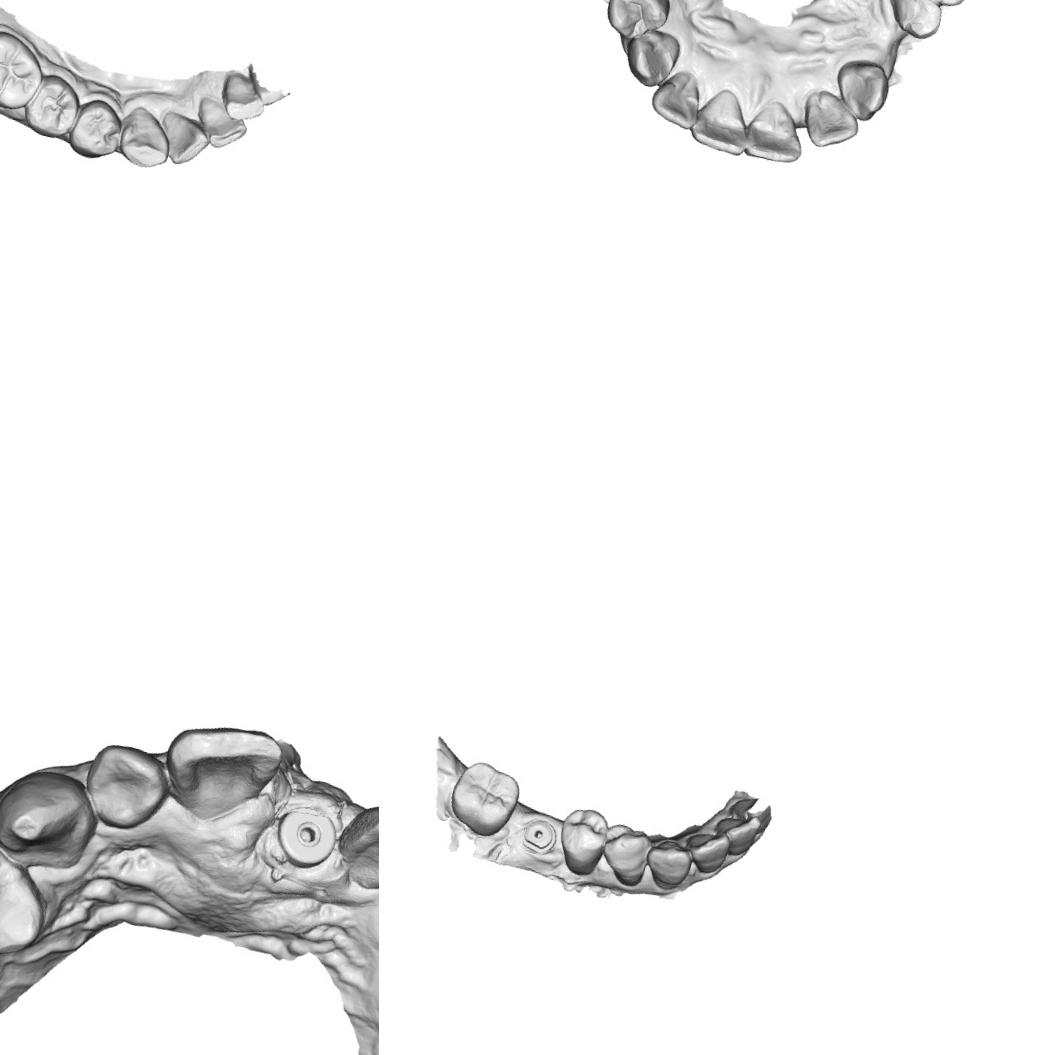canine: (0, 758, 104, 878), (826, 53, 895, 126), (616, 20, 685, 92), (112, 101, 180, 174), (639, 832, 697, 896)
implant: (268, 798, 344, 874), (517, 815, 560, 856)
incisor: (154, 710, 286, 835), (75, 736, 174, 837), (740, 94, 813, 170), (686, 82, 759, 158), (330, 796, 379, 902), (795, 85, 867, 155), (645, 63, 708, 131), (152, 108, 216, 172), (188, 93, 253, 155), (215, 69, 271, 127), (706, 806, 764, 858), (678, 827, 732, 878), (725, 790, 775, 834)
molar: (442, 754, 526, 844), (0, 22, 51, 114)
premolar: (0, 822, 59, 963), (548, 800, 614, 880), (17, 67, 86, 143), (63, 92, 128, 164), (592, 818, 656, 888), (599, 0, 676, 49), (878, 0, 949, 43)
